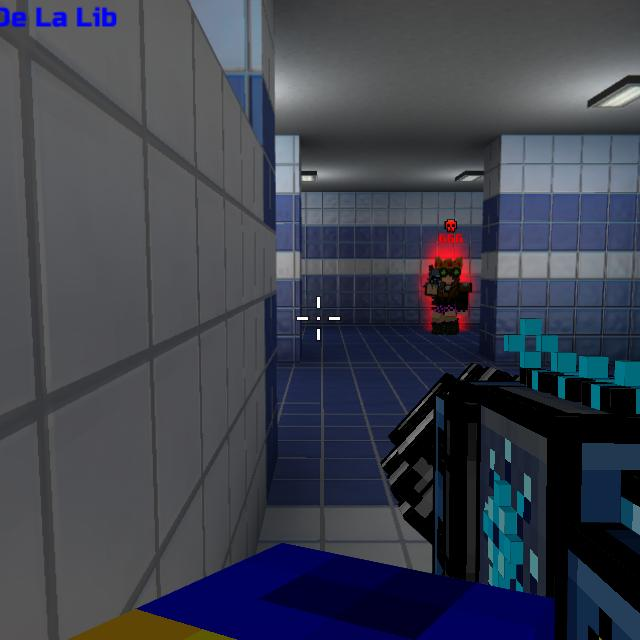Enemy: (421, 257, 470, 333)
